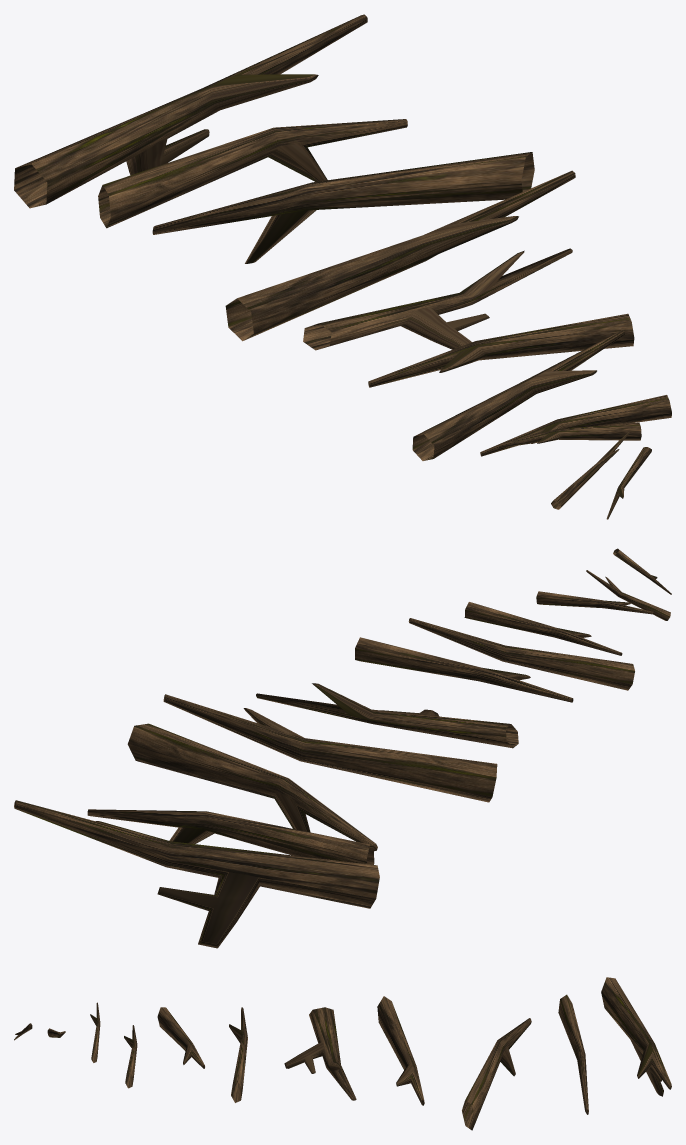
Rendered from Branches.fbx.
The picture shows the model from 3 angles, top to bottom: view 1: azimuth 30°, elevation 25°; view 2: azimuth 150°, elevation 25°; view 3: azimuth 270°, elevation 25°; orthographic projection. The views are drawn at different scales.
Parts seen in each view (by area): view 1: Branch_1, Branch_3, Branch_4, Branch_2, Branch_5, Branch_6, Branch_7, Branch_8, Branch_9, Branch_10; view 2: Branch_1, Branch_4, Branch_3, Branch_2, Branch_5, Branch_7, Branch_6, Branch_8, Branch_9, Branch_10; view 3: Branch_1, Branch_5, Branch_3, Branch_4, Branch_2, Branch_7, Branch_6, Branch_8, Branch_9.
Boxes of the visible parts, x1,y1,x2,y2 form: Branch_1: (14,14,367,208); Branch_3: (152,152,534,263); Branch_4: (225,170,575,341); Branch_2: (98,119,407,228); Branch_5: (303,248,572,350); Branch_6: (368,313,634,387); Branch_7: (412,330,624,460); Branch_8: (480,395,671,456); Branch_9: (498,422,641,448); Branch_10: (551,432,629,509); Branch_1: (14,800,379,948); Branch_4: (163,694,497,802); Branch_3: (127,723,377,851); Branch_2: (87,809,374,864); Branch_5: (256,683,518,748); Branch_7: (408,618,634,690); Branch_6: (355,637,573,702); Branch_8: (464,602,622,655); Branch_9: (536,591,653,614); Branch_10: (586,570,670,620); Branch_1: (601,977,671,1096); Branch_5: (284,1007,356,1100); Branch_3: (462,1018,531,1130); Branch_4: (377,996,424,1105); Branch_2: (558,994,588,1114); Branch_7: (157,1007,204,1068); Branch_6: (229,1007,247,1102); Branch_8: (124,1025,137,1088); Branch_9: (90,1002,100,1062).
Size of the model in its own units: 4.1 by 1.21 by 8.9.
